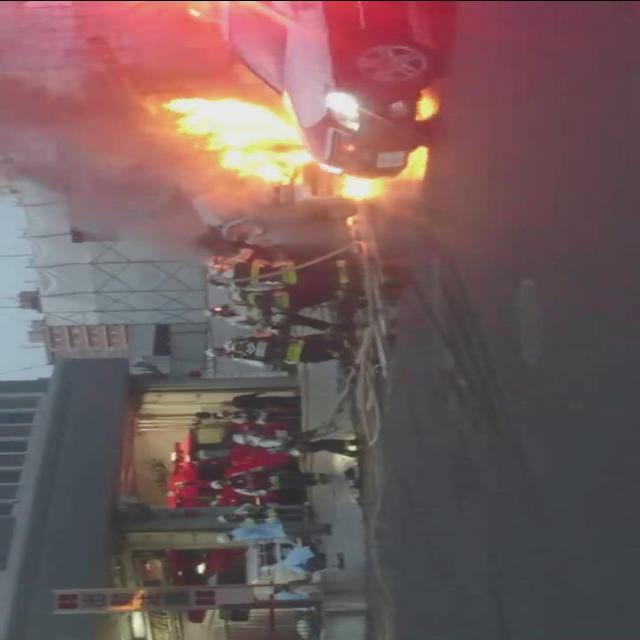Fire: (156, 89, 306, 183), (313, 160, 387, 198), (396, 145, 430, 183), (415, 94, 437, 120)
